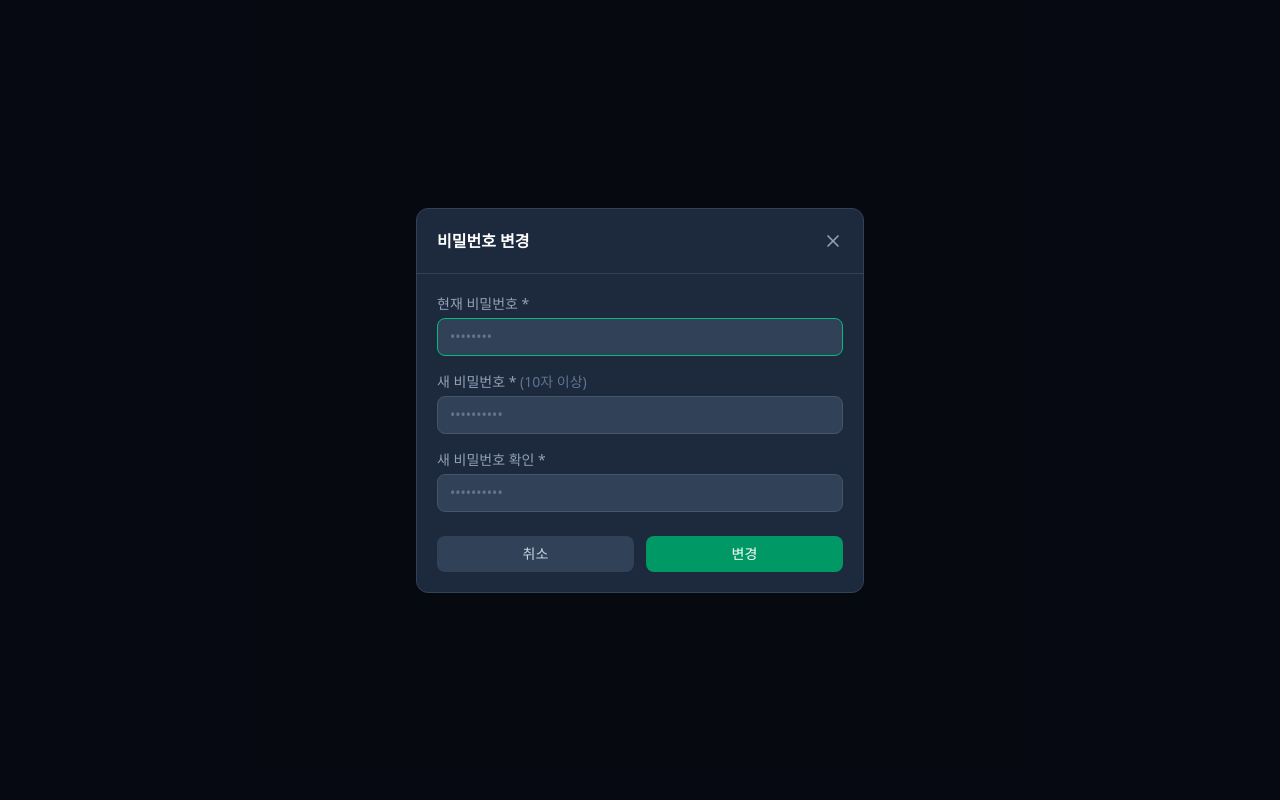
Scenario: ChangePasswordModal › 클라이언트 검증 — 서버를 호출하기 전에 막는다 › 새 비밀번호가 기존과 같으면 요청하지 않는다
The width and height of the screenshot is (1280, 800).
Type "a-long-enough-password" into the password field labelled "현재 비밀번호 *" at point(640, 336), box [437,318,843,356]
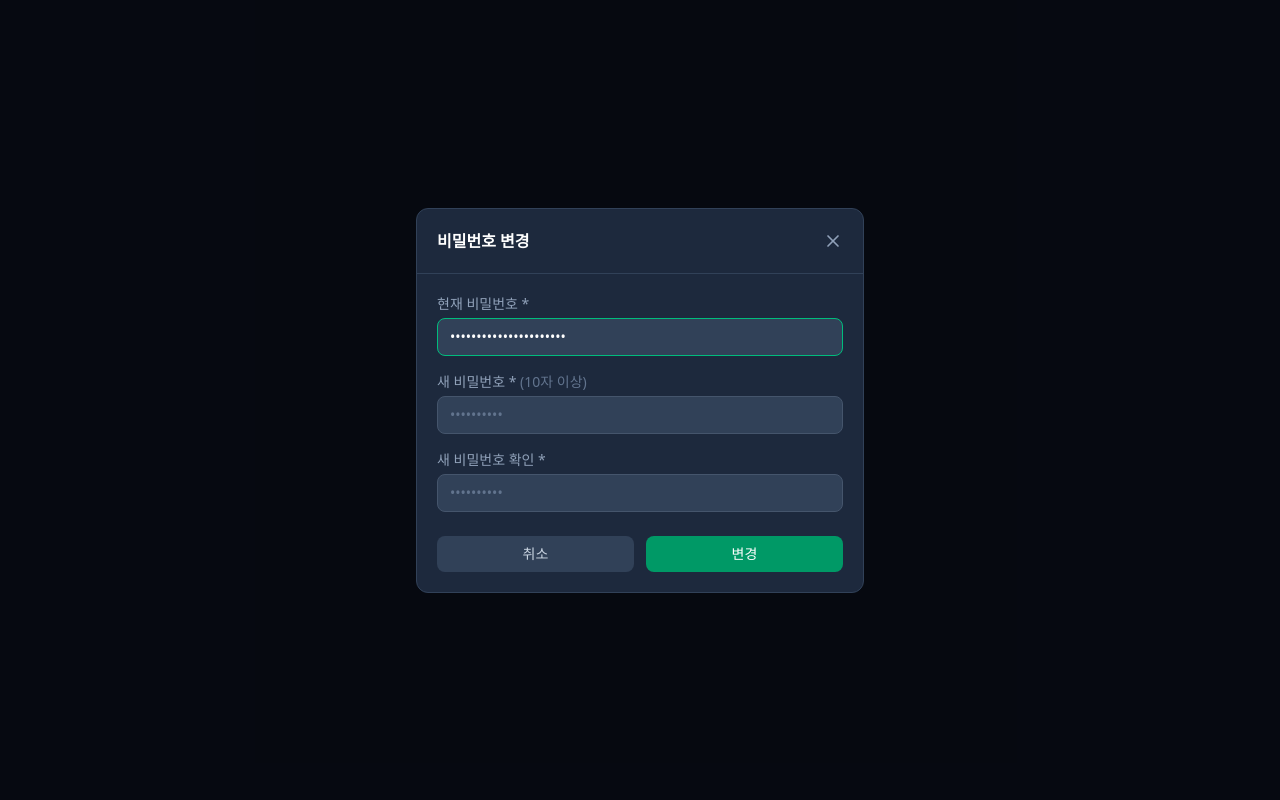
Type "a-long-enough-password" into the password field labelled "새 비밀번호 * (10자 이상)" at point(640, 414), box [437,396,843,434]
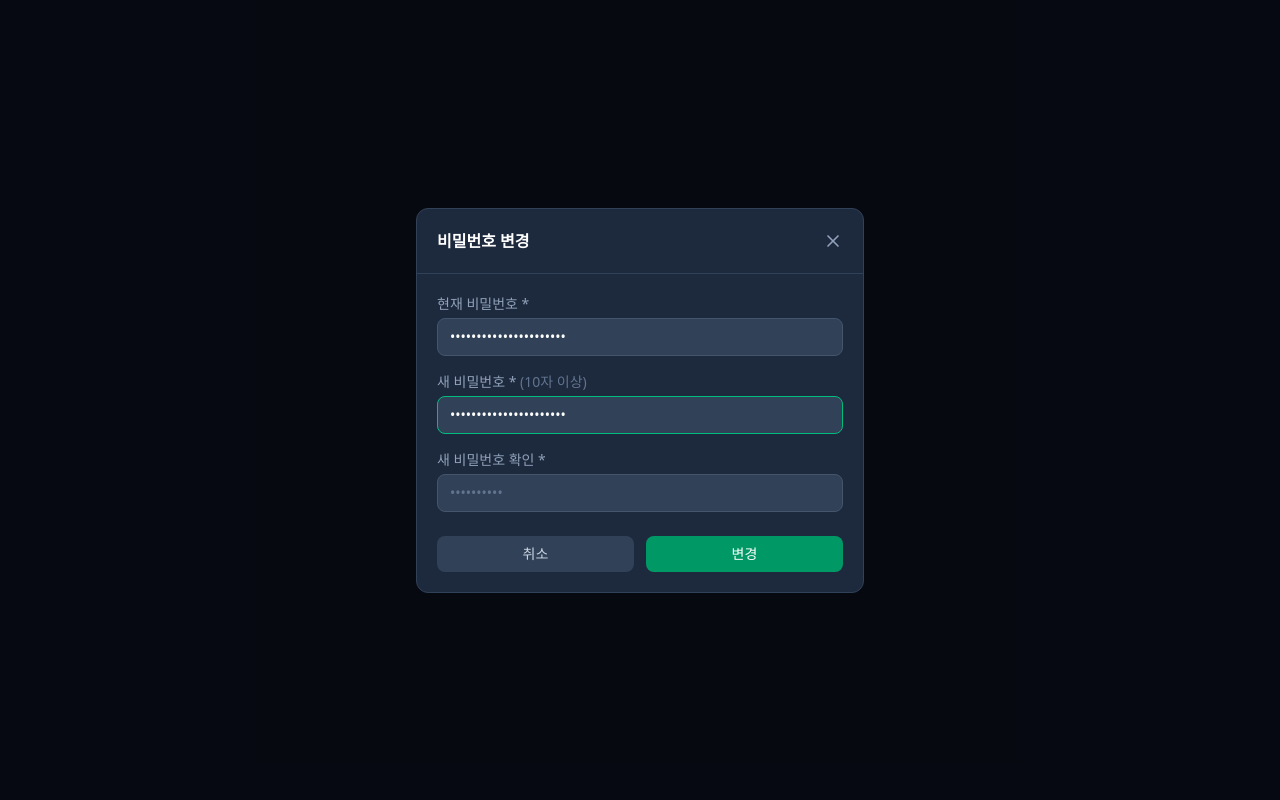
Type "a-long-enough-password" into the password field labelled "새 비밀번호 확인 *" at point(640, 492), box [437,474,843,512]
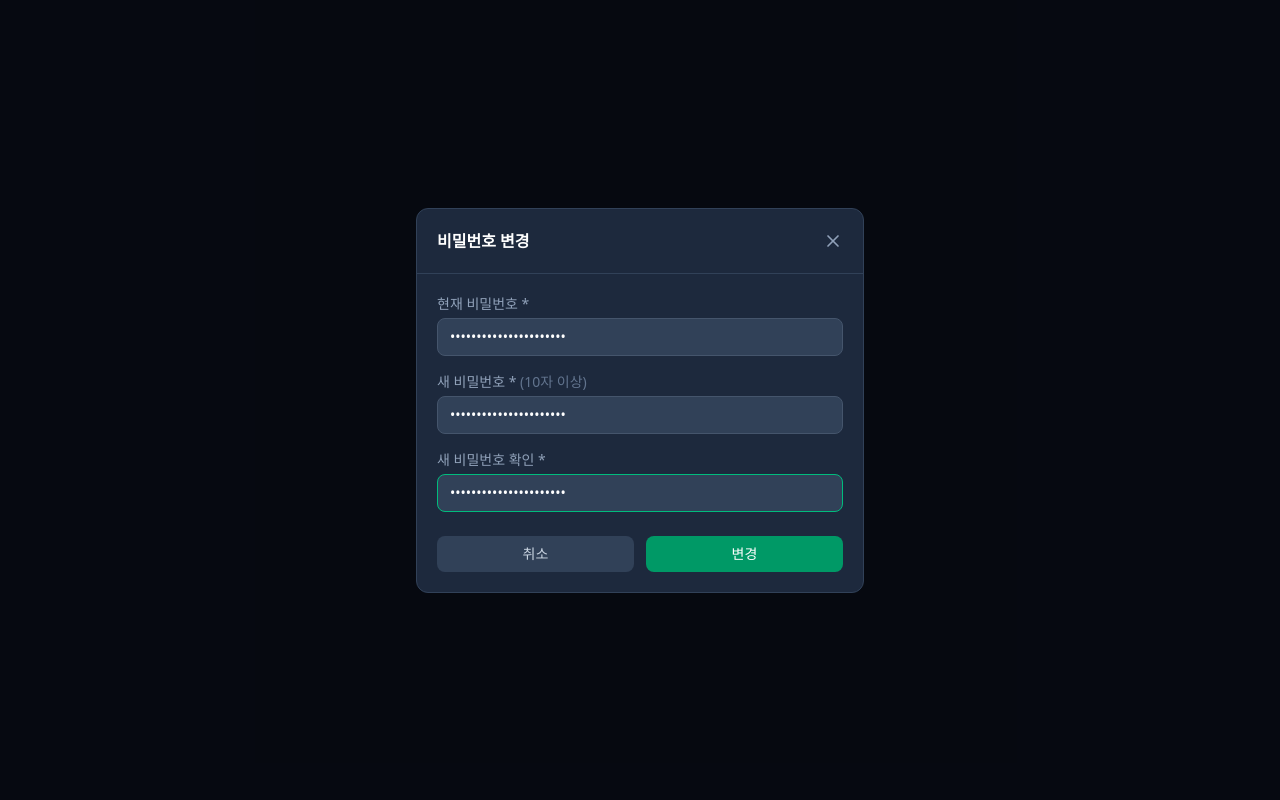
Click the button "변경" at point(744, 554), box [646,536,843,572]
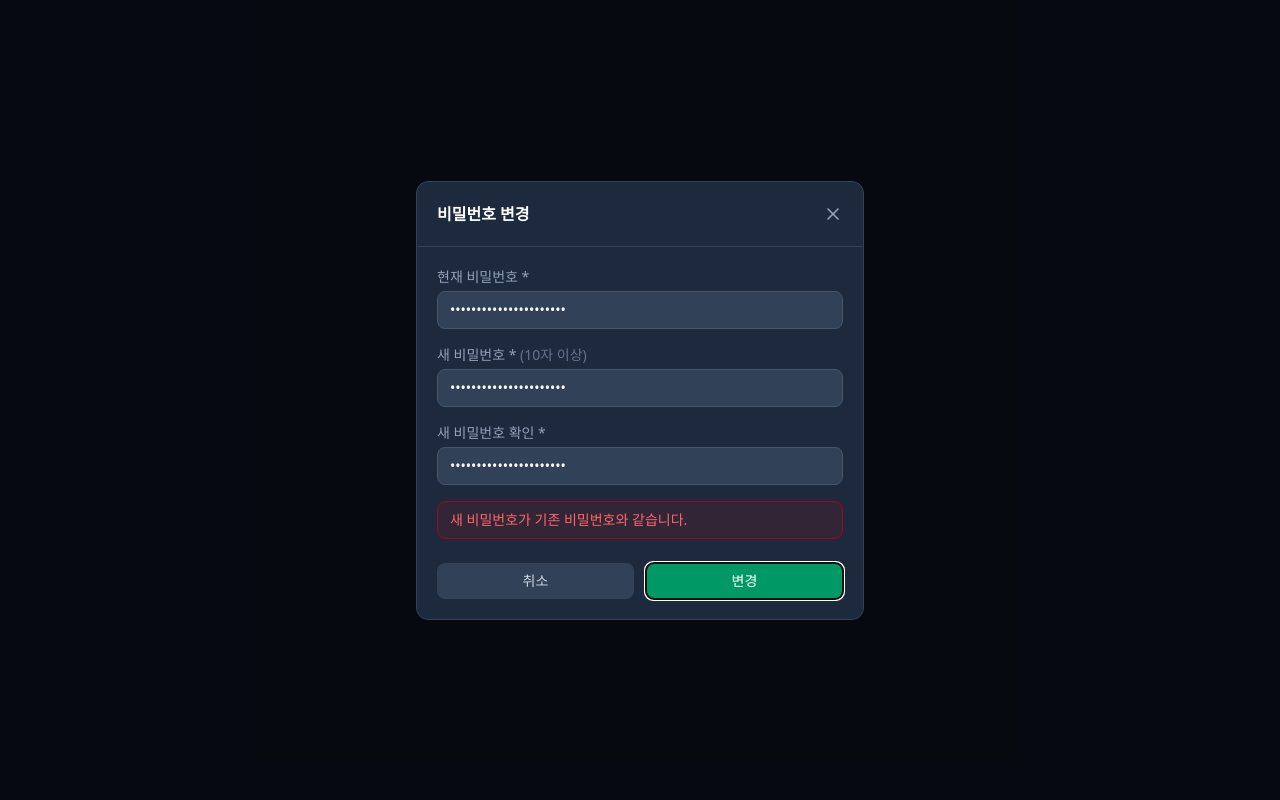
Check: the text "새 비밀번호가 기존 비밀번호와 같습니다." is shown, box [437,500,843,538]
